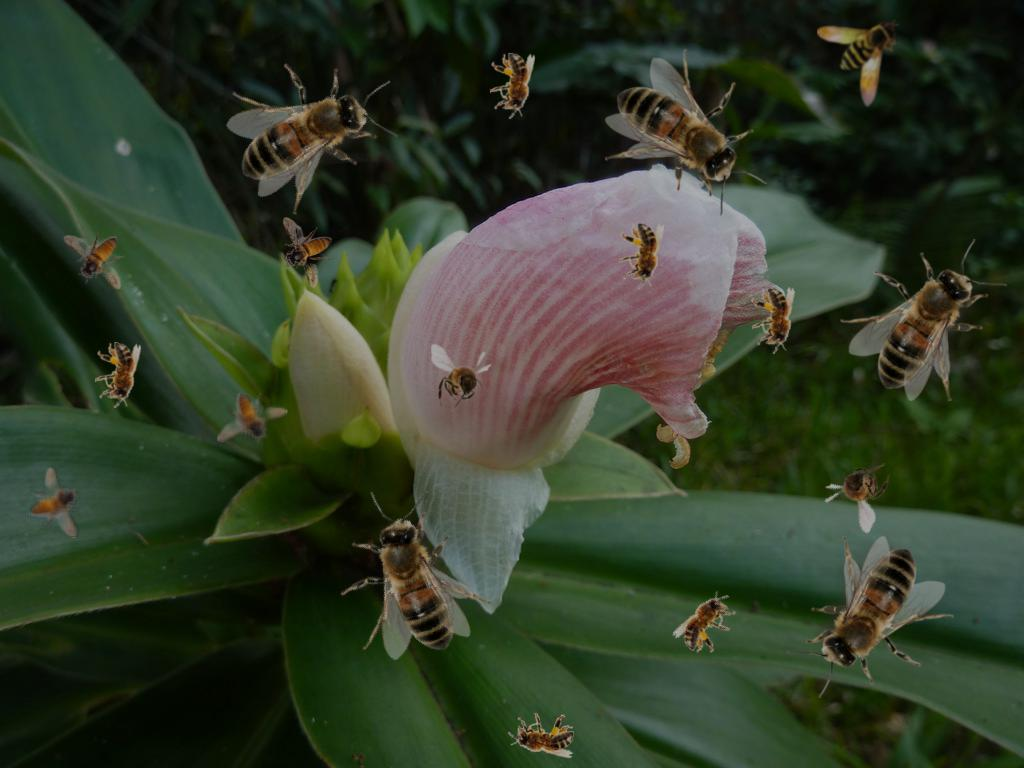Bee: (295, 465, 524, 695), (196, 19, 419, 241), (787, 536, 954, 698), (840, 239, 1007, 401), (605, 49, 767, 216), (814, 443, 903, 535), (817, 19, 899, 107), (61, 216, 137, 303), (670, 581, 746, 662), (431, 344, 492, 414), (28, 464, 82, 539), (282, 217, 332, 288), (217, 393, 288, 443), (749, 286, 799, 355), (94, 342, 142, 409), (490, 53, 535, 119), (508, 713, 574, 758), (619, 223, 664, 289)
